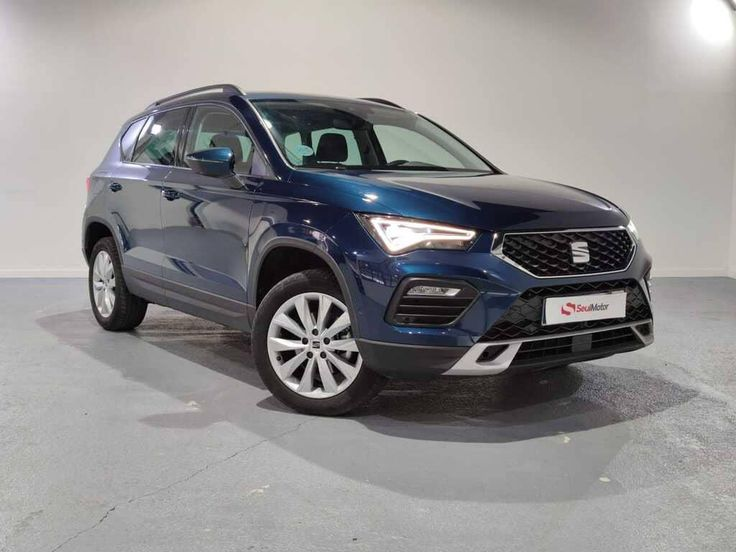car: (68, 66, 674, 442)
